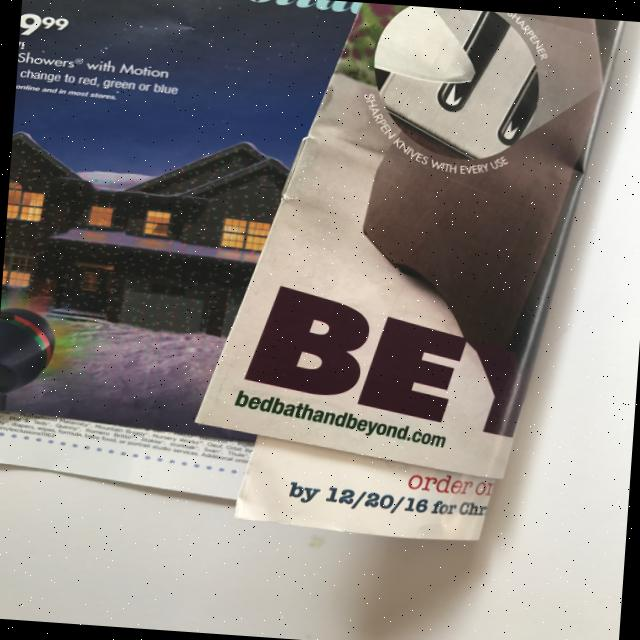paper: (0, 0, 618, 549)
